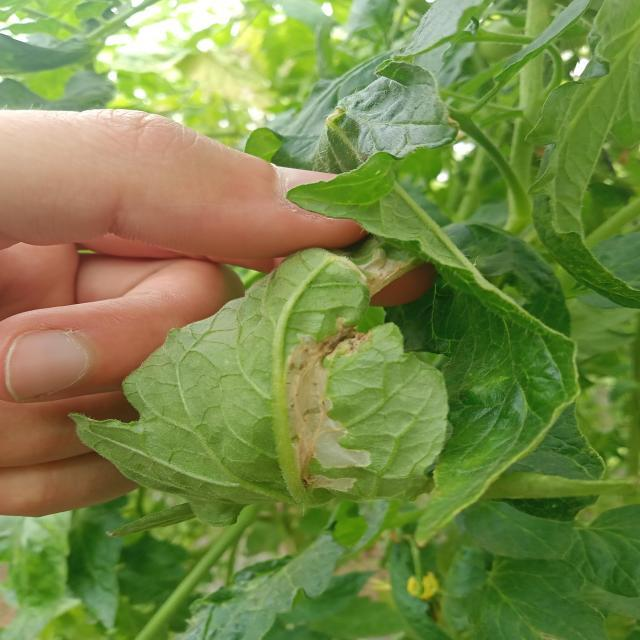Tuta absoluta: (260, 335, 374, 488), (306, 470, 356, 493)
